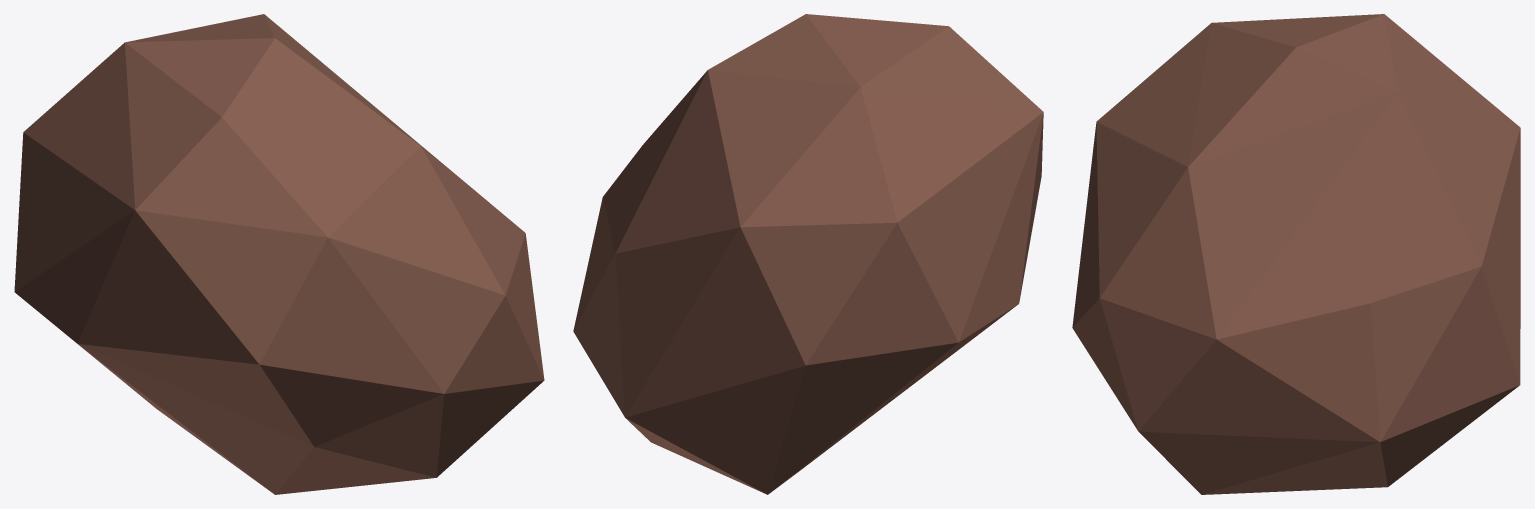
The model's file is decor_rock_02.glb.
The picture shows the model from 3 angles, left to right: view 1: azimuth 30°, elevation 25°; view 2: azimuth 150°, elevation 25°; view 3: azimuth 270°, elevation 25°; orthographic projection. The views are drawn at different scales.
Visible parts, largest first — view 1: decor_rock_02; view 2: decor_rock_02; view 3: decor_rock_02.
Boxes of the visible parts, x1=… form: decor_rock_02: x1=14, y1=14, x2=544, y2=494; decor_rock_02: x1=573, y1=14, x2=1043, y2=494; decor_rock_02: x1=1072, y1=14, x2=1520, y2=494.
Bounding box in the file's own units: 1.3 × 1.37 × 1.31.
